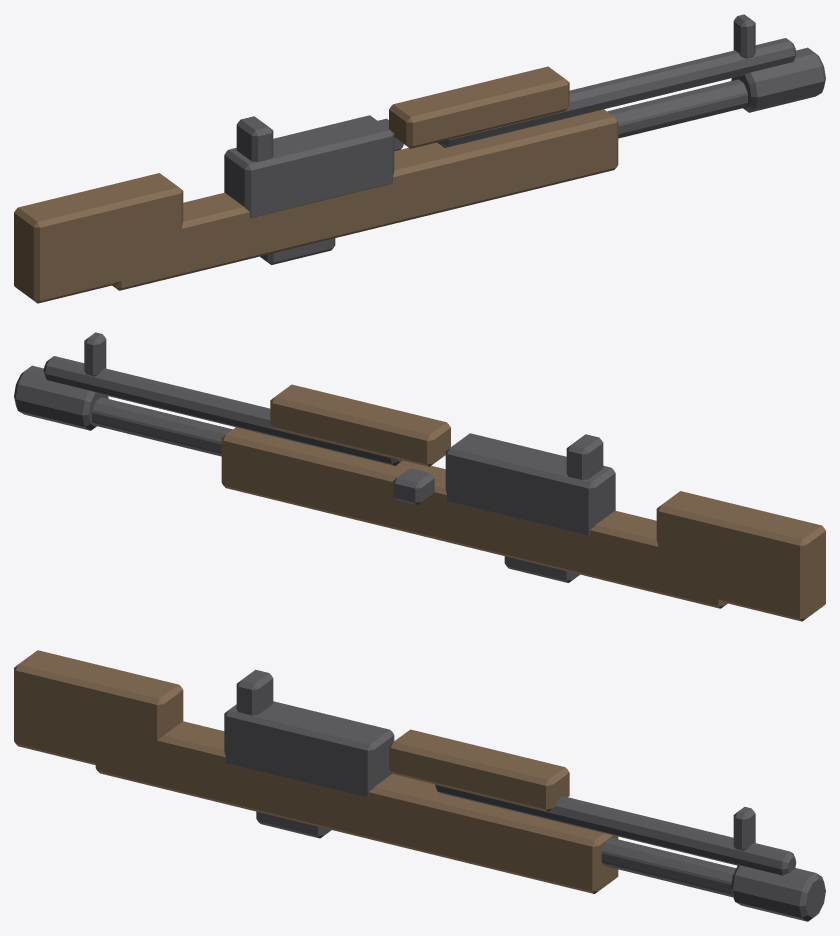
File: weapon_rifle_us_ww2.glb
3 views of the same model, one above another, from view 1: azimuth 30°, elevation 25°; view 2: azimuth 150°, elevation 25°; view 3: azimuth 330°, elevation 25° (orthographic).
Parts seen in each view (by area): view 1: weapon_rifle_us_ww2; view 2: weapon_rifle_us_ww2; view 3: weapon_rifle_us_ww2.
Boxes of the visible parts, box(x1,y1,x2,y2) form: weapon_rifle_us_ww2: box(14, 14, 825, 303); weapon_rifle_us_ww2: box(14, 332, 825, 621); weapon_rifle_us_ww2: box(14, 650, 825, 921).
Bounding box in the file's own units: 1.17 × 0.1975 × 0.1095.
